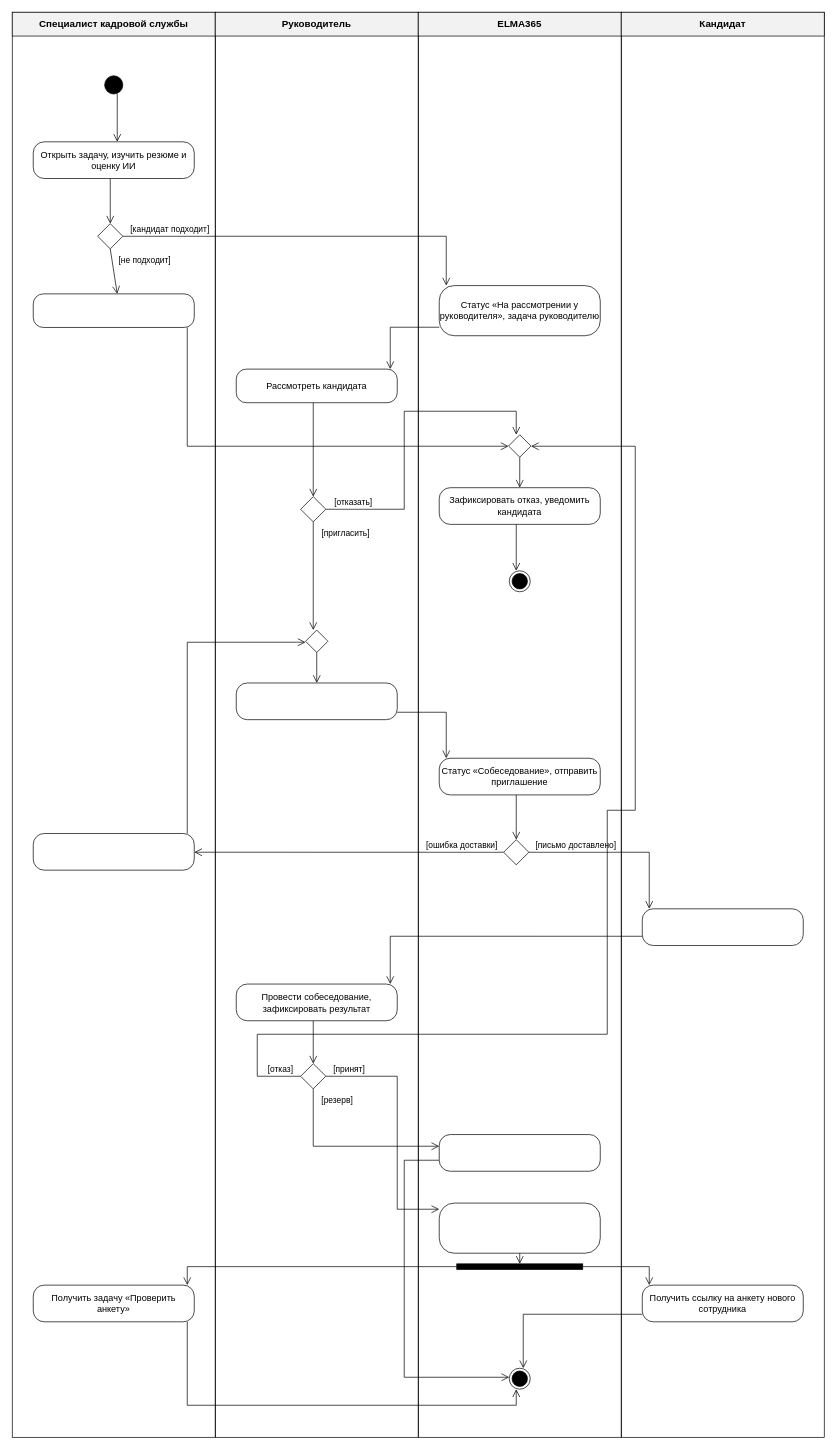
This 837x1450 diagram has some shape labels left out. Each missing label, with the box of its shape:
Назначить собеседование: дата, время, формат: (236, 682, 397, 720)
Отклонить, указать причину: (33, 293, 194, 327)
Получить приглашение, прийти на собеседование: (642, 908, 803, 945)
Связаться с кандидатом по телефону: (33, 833, 194, 870)
Сохранить в кадровом резерве, уведомить кандидата: (439, 1134, 600, 1171)
Уведомить кандидата, запустить дистанционное оформление: (439, 1202, 600, 1253)
